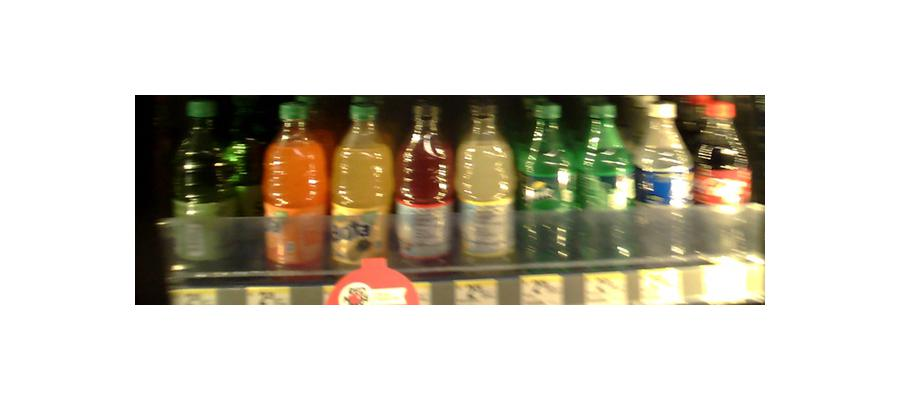bottle: (262, 98, 326, 275), (330, 98, 393, 270), (457, 100, 515, 270), (694, 100, 752, 264), (518, 97, 575, 263), (397, 102, 452, 273), (580, 95, 635, 264), (172, 113, 229, 272), (637, 96, 691, 260)
